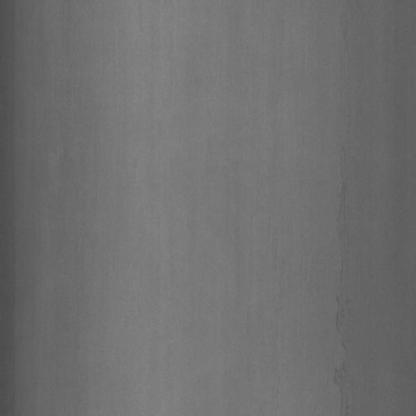silk_spot: (321, 94, 365, 386)
